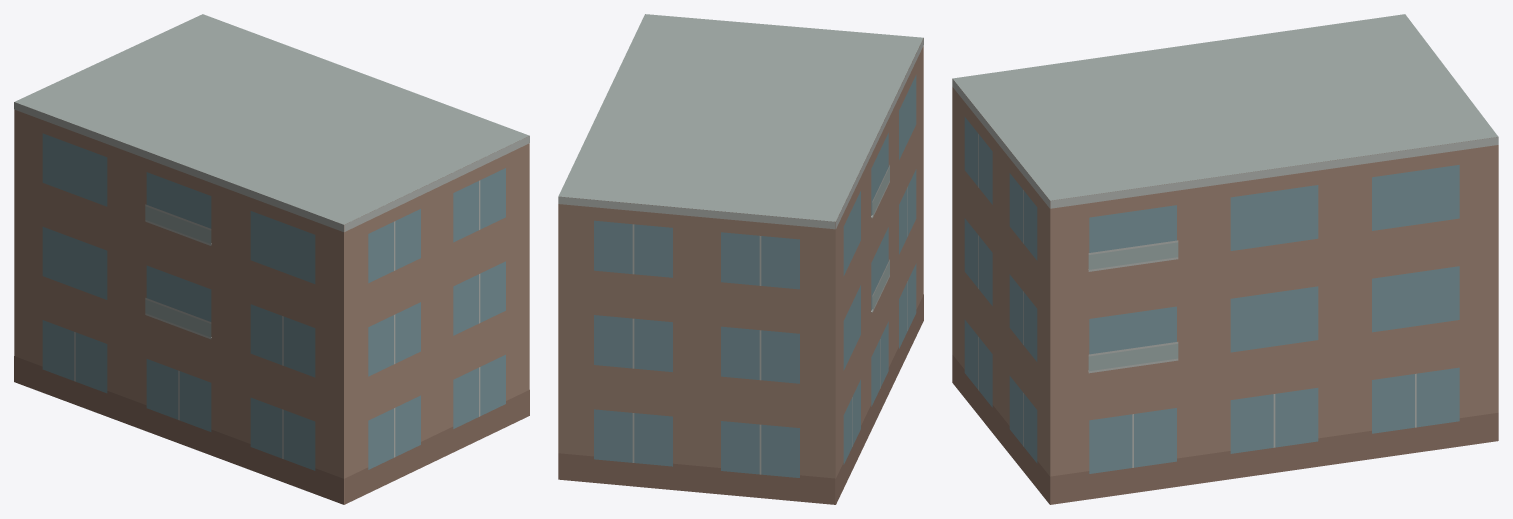
The model's file is survey-upis-32771208.glb.
3 renders of one model, left to right at view 1: azimuth 30°, elevation 25°; view 2: azimuth 150°, elevation 25°; view 3: azimuth 270°, elevation 25°, orthographic. The views are drawn at different scales.
Visible parts, largest first — view 1: survey-upis-32771208.tmp; view 2: survey-upis-32771208.tmp; view 3: survey-upis-32771208.tmp.
Part boxes in pixels (x1,y1,x2,y2): survey-upis-32771208.tmp: (14, 14, 529, 504); survey-upis-32771208.tmp: (558, 14, 923, 504); survey-upis-32771208.tmp: (952, 14, 1498, 504).
Size of the model in its own units: 12.05 by 9.15 by 14.9.
